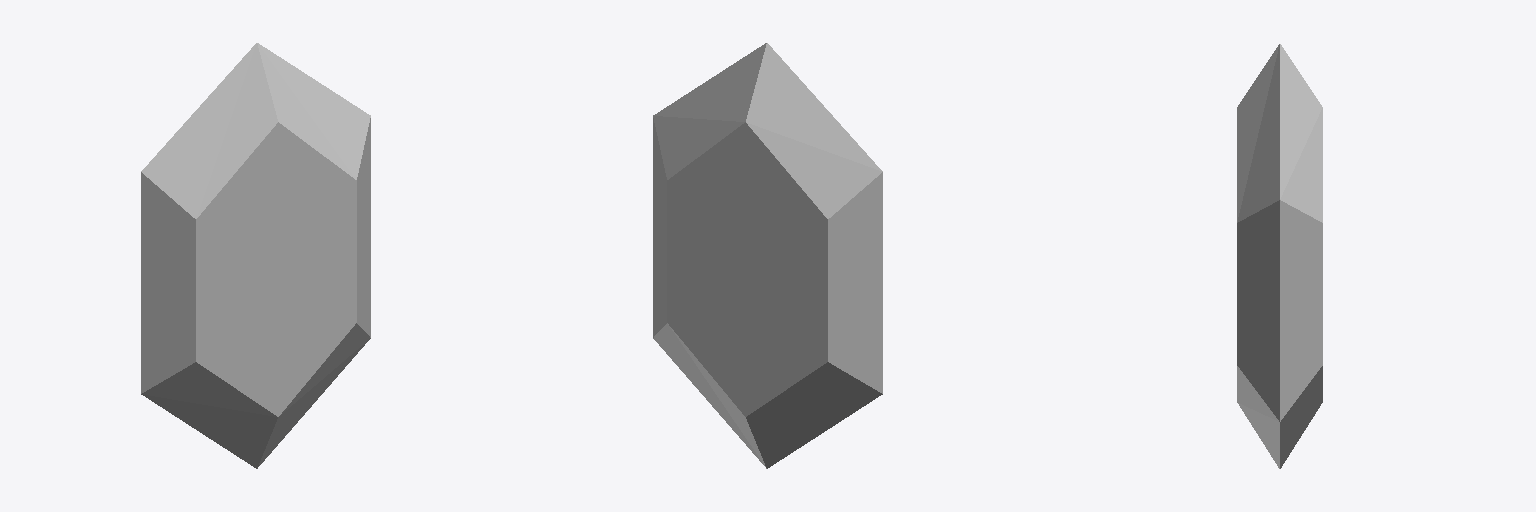
Rendered from Low_Poly_Rupee.obj.
3 renders of one model, left to right at view 1: azimuth 30°, elevation 25°; view 2: azimuth 150°, elevation 25°; view 3: azimuth 270°, elevation 25°, orthographic.
Parts seen in each view (by area): view 1: pCube1; view 2: pCube1; view 3: pCube1.
Part boxes in pixels (x1,y1,x2,y2): pCube1: (141,43,370,468); pCube1: (653,43,882,468); pCube1: (1237,44,1322,468).
Bounding box in the file's own units: 2.79 × 4.95 × 0.9006.